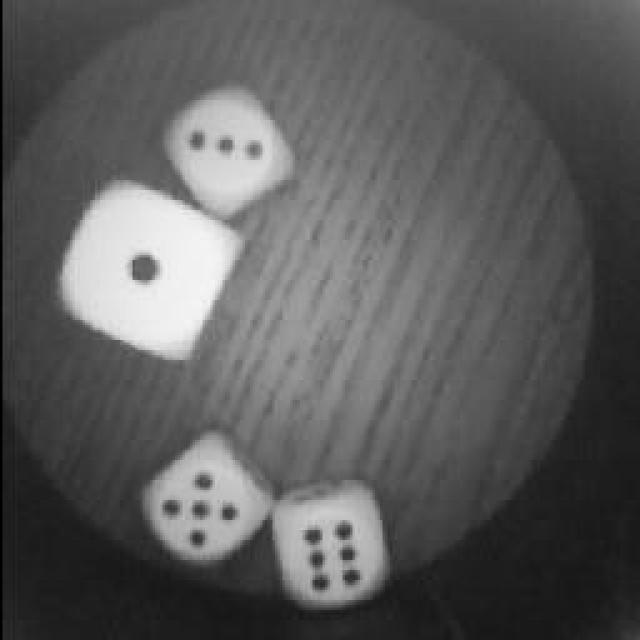dice_1: (52, 178, 248, 358)
dice_3: (160, 83, 295, 205)
dice_5: (135, 443, 270, 575)
dice_6: (262, 478, 388, 612)
